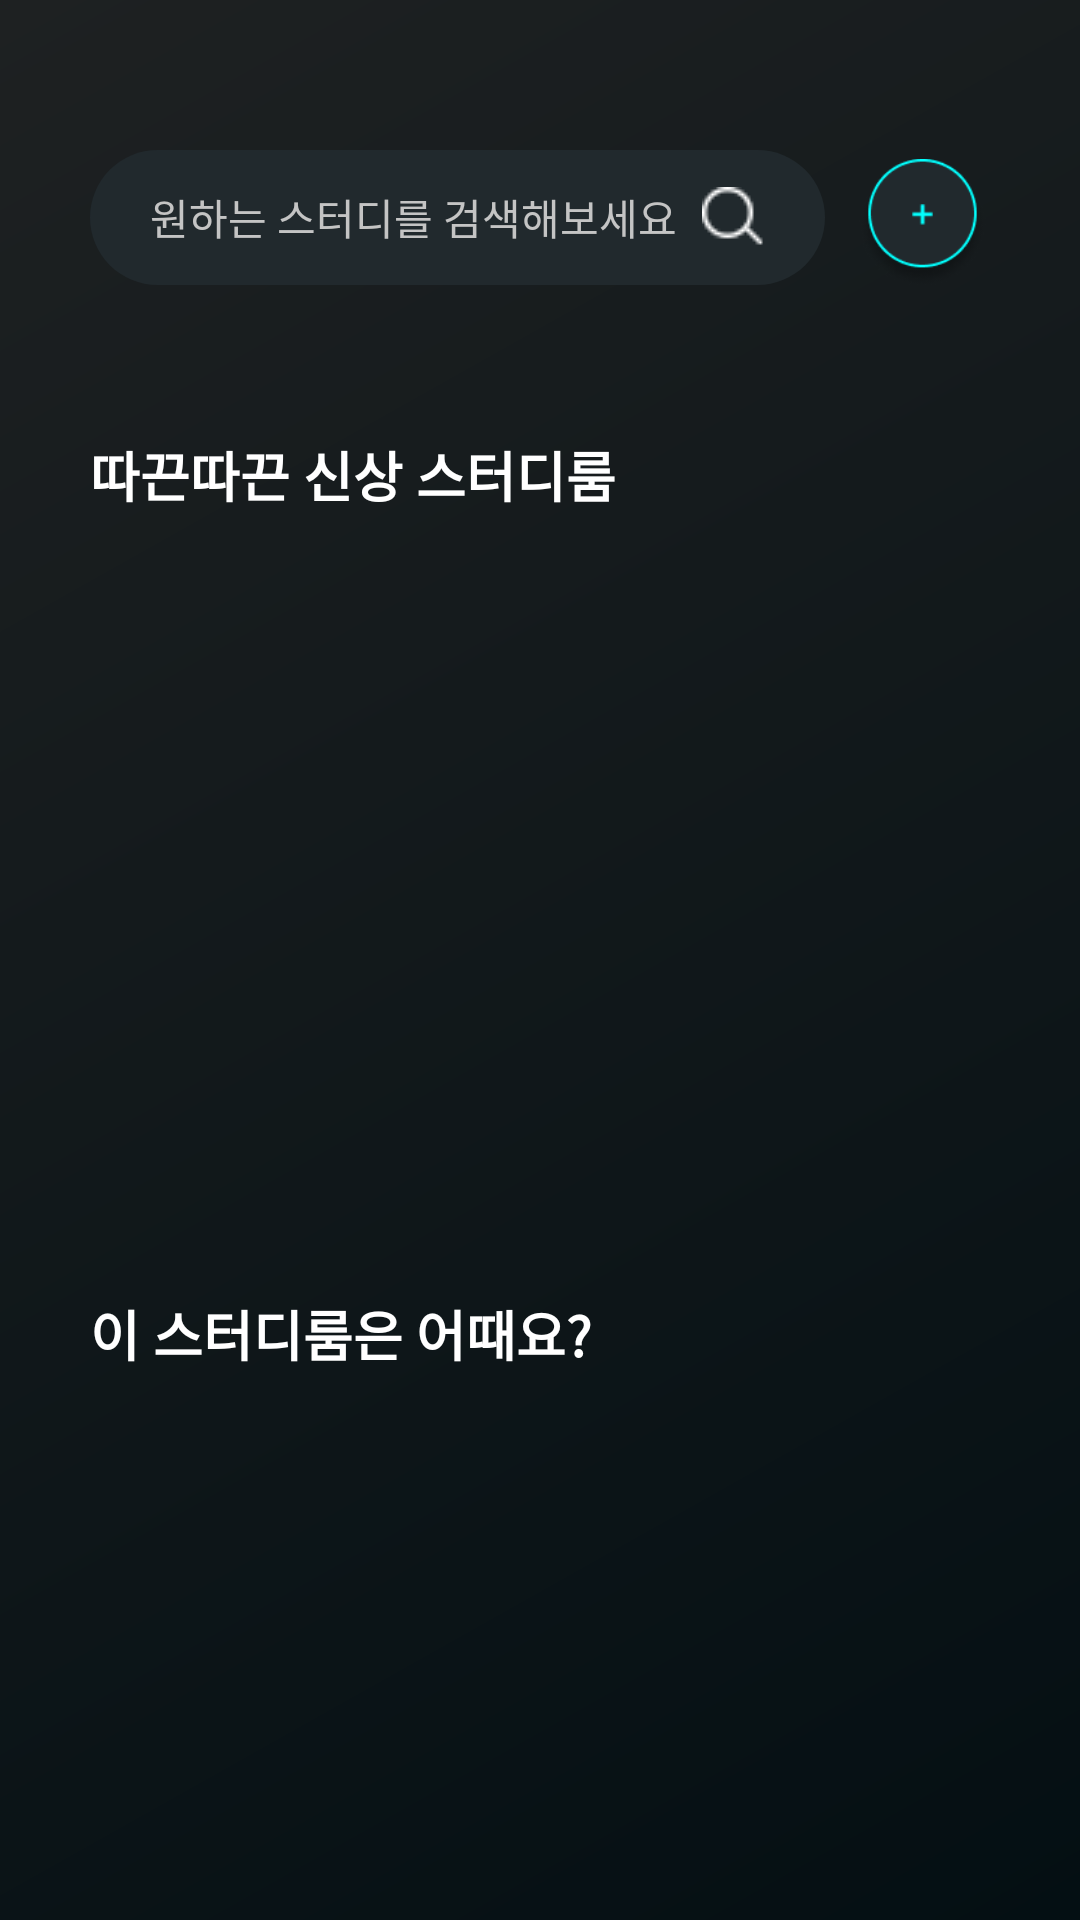

Where icons sit on this 1080*1920 app screen, as (x1, y1, x2, y2):
create class: (868, 159, 977, 268)
